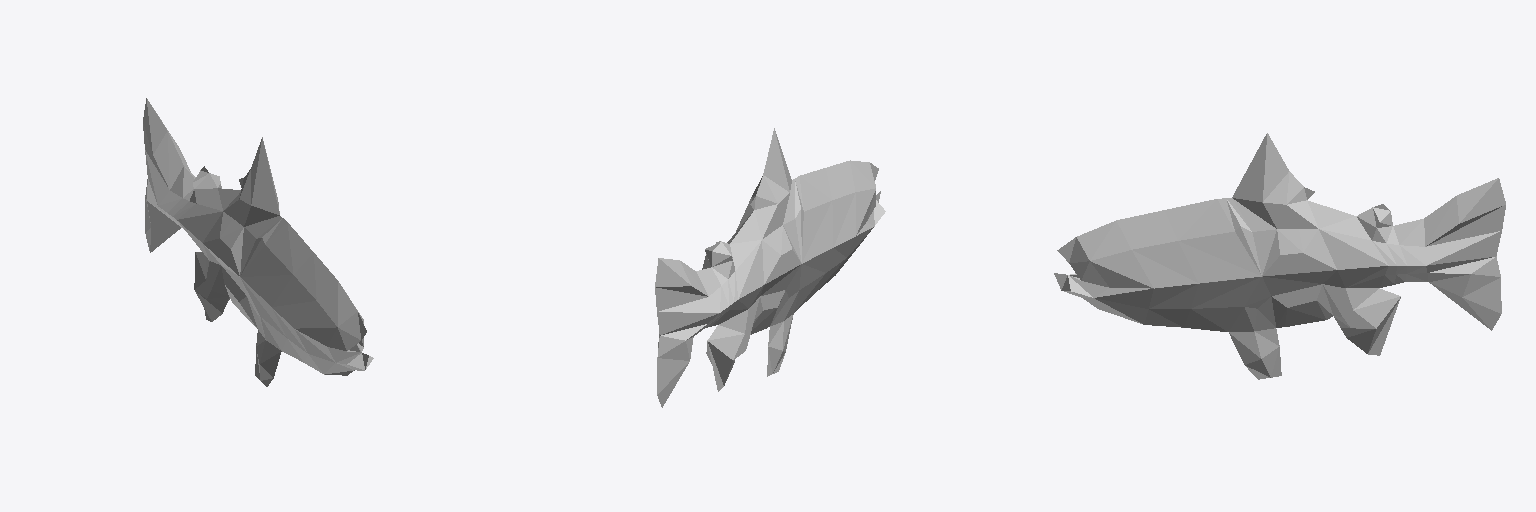
The model's file is Fish.obj.
The picture shows the model from 3 angles: view 1: azimuth 30°, elevation 25°; view 2: azimuth 150°, elevation 25°; view 3: azimuth 270°, elevation 25°; orthographic projection.
Visible parts, largest first — view 1: Fish; view 2: Fish; view 3: Fish.
Boxes of the visible parts, box(x1,y1,x2,y2) form: Fish: box(143, 98, 373, 386); Fish: box(655, 128, 885, 407); Fish: box(1054, 133, 1505, 379).
Bounding box in the file's own units: 0.253 × 1.21 × 2.